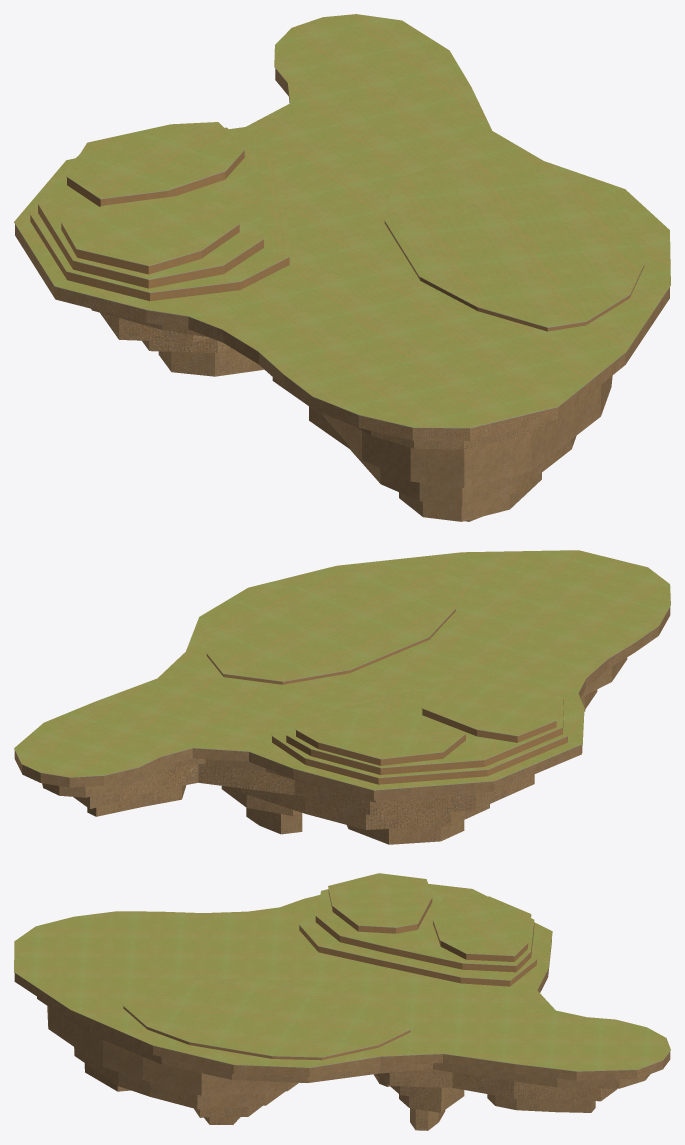
Rendered from Insel.fbx.
3 renders of one model, top to bottom at view 1: azimuth 30°, elevation 25°; view 2: azimuth 150°, elevation 25°; view 3: azimuth 270°, elevation 25°, orthographic. The views are drawn at different scales.
Parts seen in each view (by area): view 1: Island; view 2: Island; view 3: Island.
Part boxes in pixels (x1,y1,x2,y2): Island: (14,14,670,521); Island: (14,550,670,844); Island: (14,873,670,1130).
Size of the model in its own units: 12519 by 18460 by 4300.
